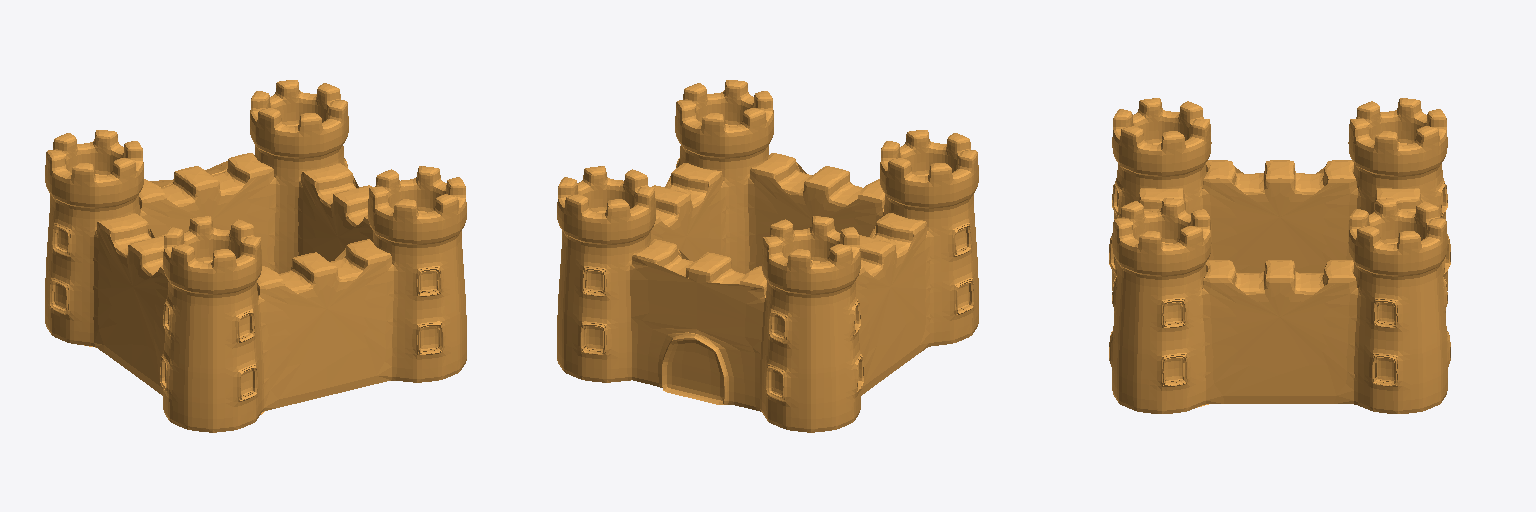
Rendered from SandCastle_001.obj.
3 views of the same model, side by side, from view 1: azimuth 30°, elevation 25°; view 2: azimuth 150°, elevation 25°; view 3: azimuth 270°, elevation 25° (orthographic).
Visible parts, largest first — view 1: Cylinder001; view 2: Cylinder001; view 3: Cylinder001.
Boxes of the visible parts, x1=… form: Cylinder001: x1=45, y1=80, x2=466, y2=432; Cylinder001: x1=557, y1=80, x2=978, y2=432; Cylinder001: x1=1109, y1=98, x2=1450, y2=413.
Size of the model in its own units: 116 by 66.9 by 116.